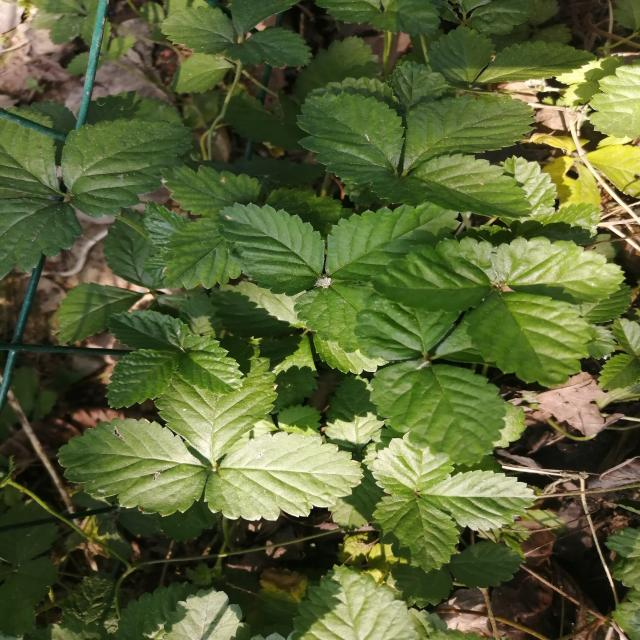Mock_strawberry: (222, 202, 580, 436), (54, 313, 386, 515)
